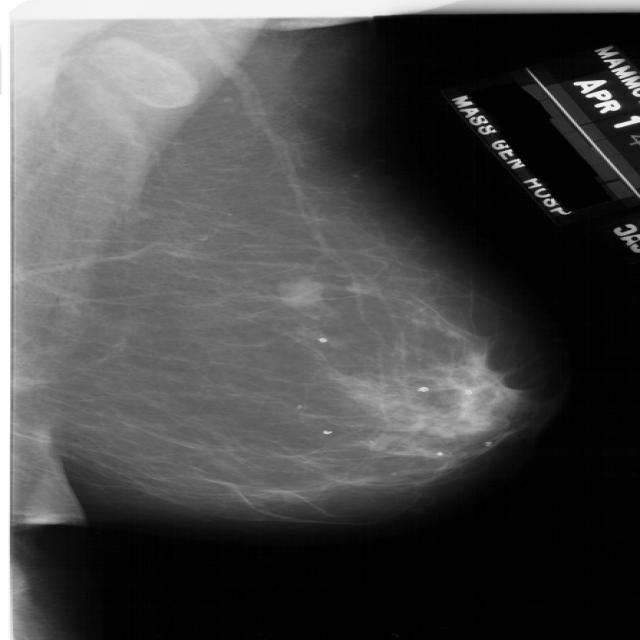tumour: (274, 277, 322, 308)
